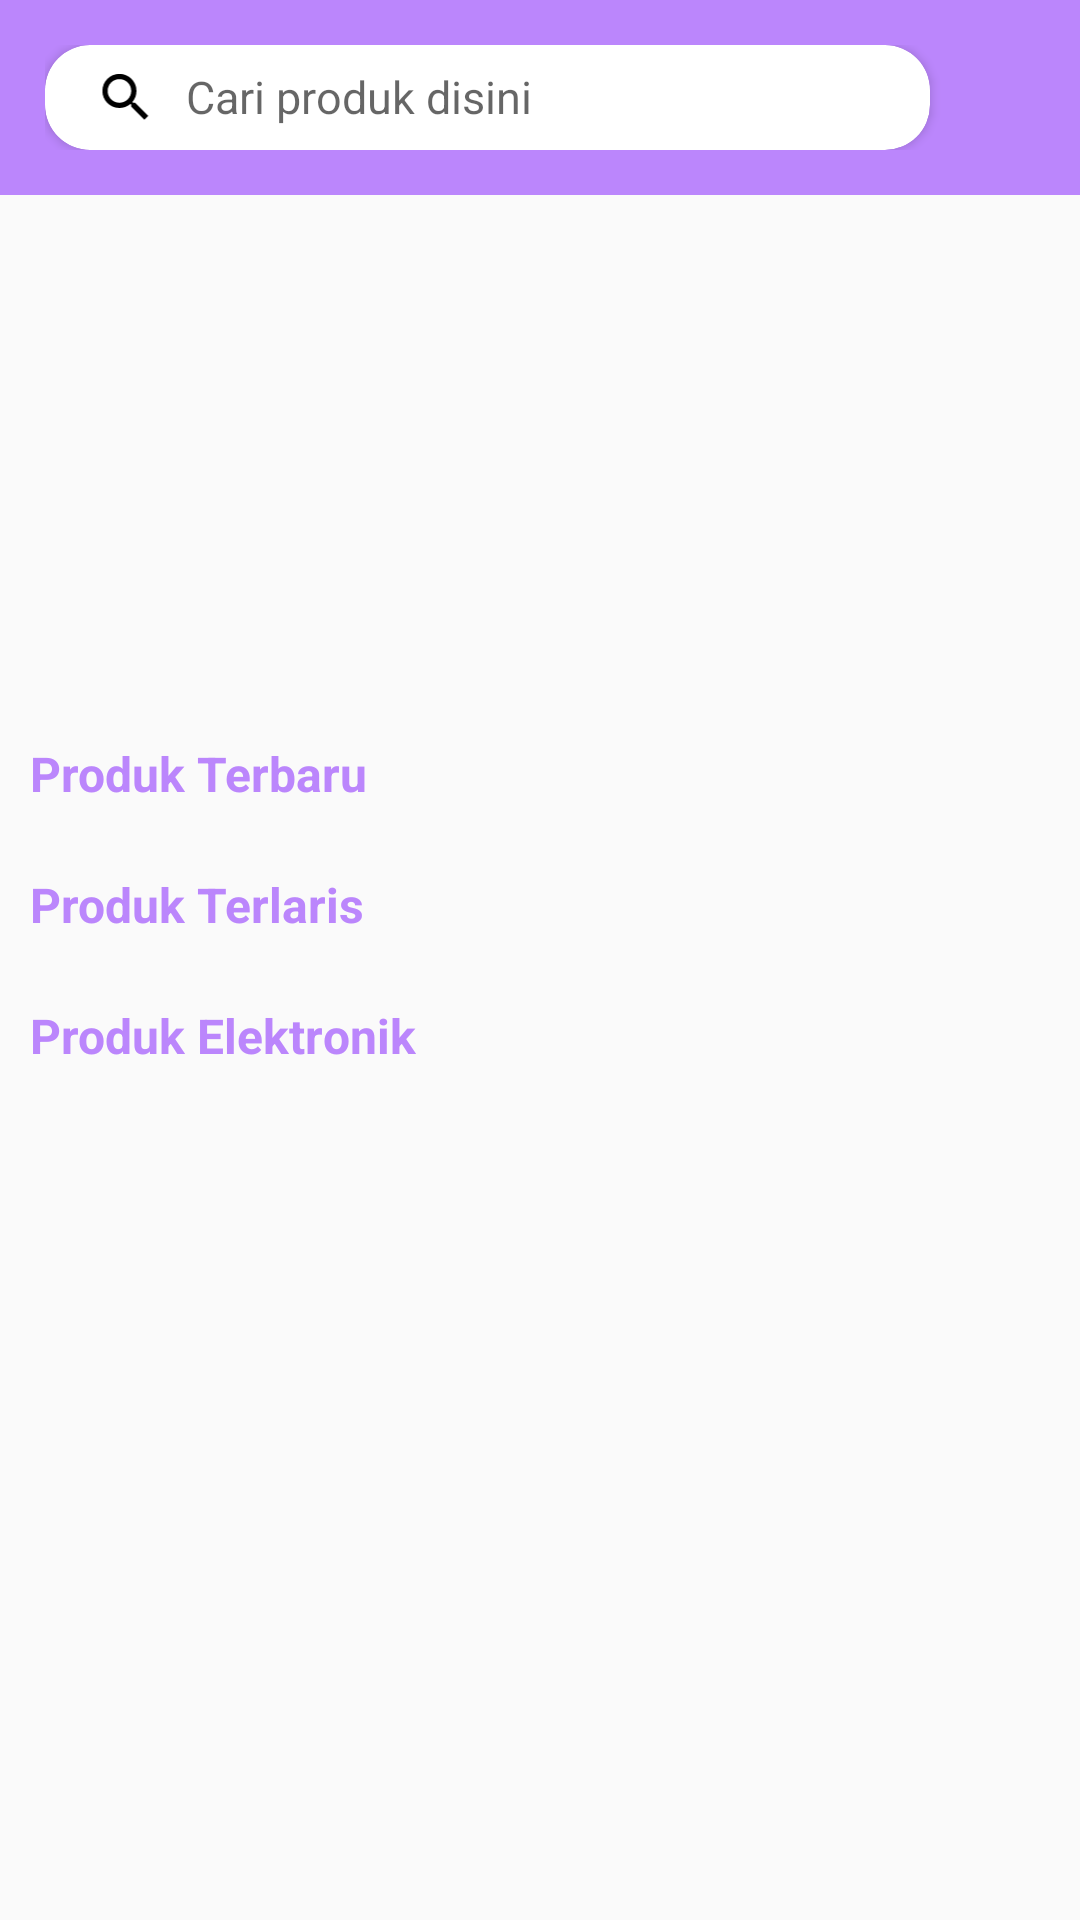

Icon click points for this 1080w x 1920h phone screenshot, format [x,y]:
search: [125,97]
